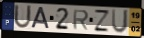2: (54, 7, 71, 31)
A: (31, 6, 51, 30)
R: (72, 9, 90, 31)
U: (13, 3, 33, 30), (111, 8, 130, 35)
Z: (93, 9, 111, 33)
